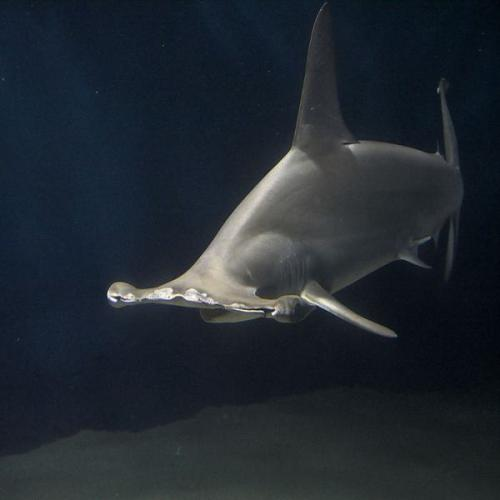shark-endangered: (105, 0, 466, 343)
